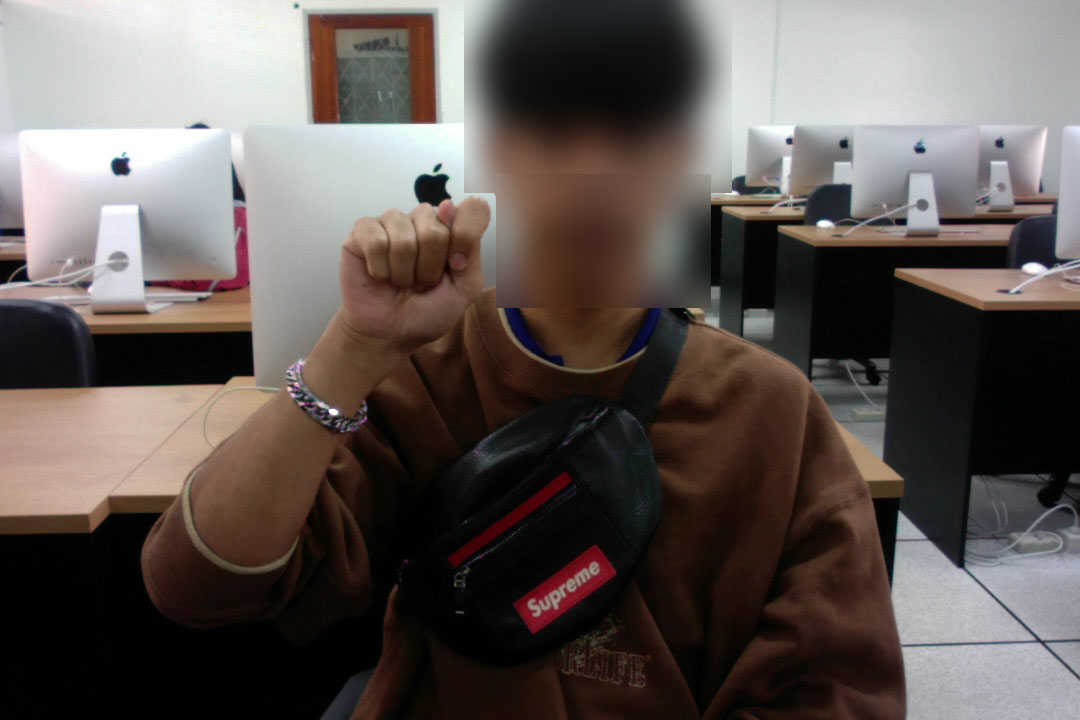tor: (328, 192, 494, 355)
